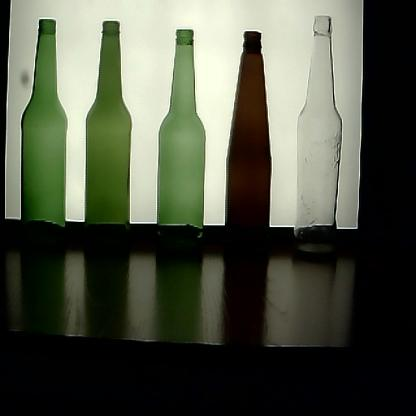Can: (286, 14, 348, 268), (154, 26, 211, 262), (19, 16, 74, 246), (84, 18, 137, 252), (224, 31, 272, 264)
